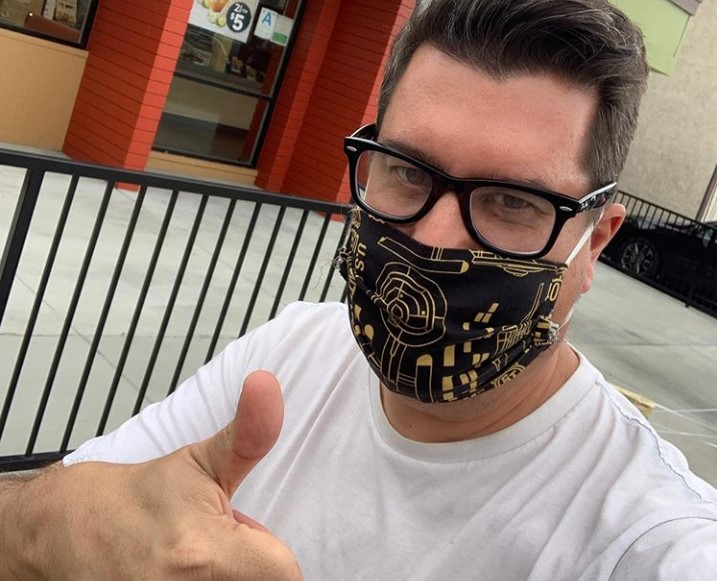face_with_mask: (332, 4, 639, 408)
